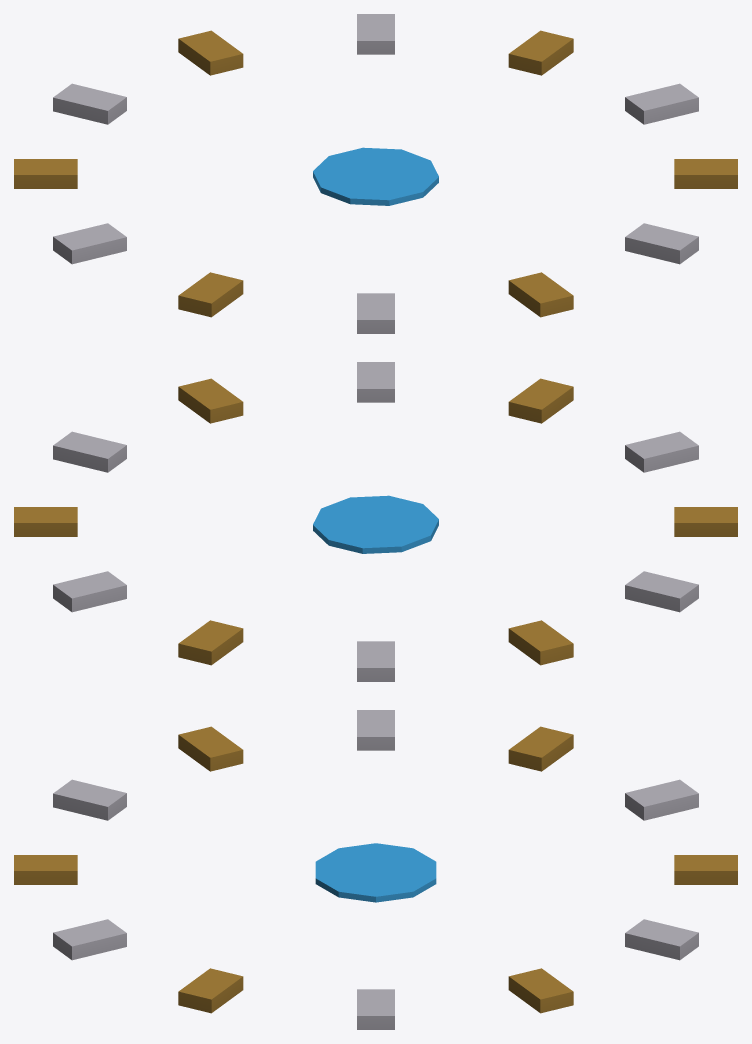
Rendered from moot_ring.glb.
3 views of the same model, one above another, from view 1: azimuth 30°, elevation 25°; view 2: azimuth 150°, elevation 25°; view 3: azimuth 270°, elevation 25° (orthographic).
Parts seen in each view (by area): view 1: moot_ring; view 2: moot_ring; view 3: moot_ring.
Boxes of the visible parts, x1,y1,x2,y2 form: moot_ring: (14,14,737,333); moot_ring: (14,362,737,681); moot_ring: (14,710,737,1029).
Bounding box in the file's own units: 5.7 × 0.12 × 5.7.
